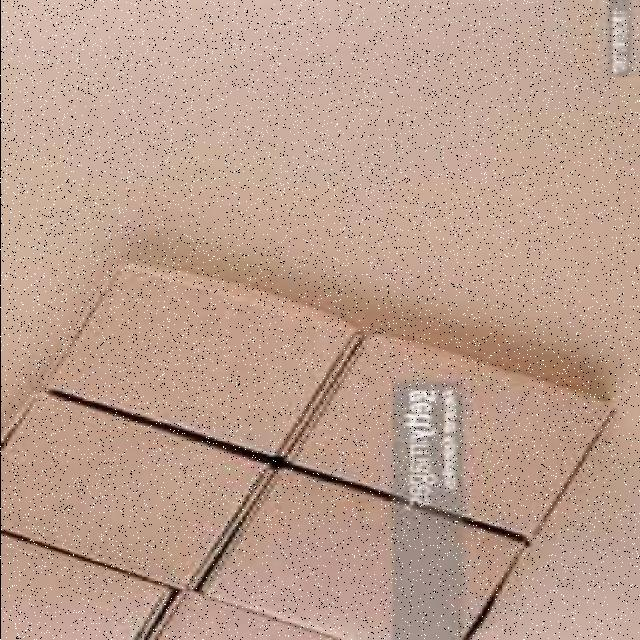normal: (38, 256, 364, 467)
